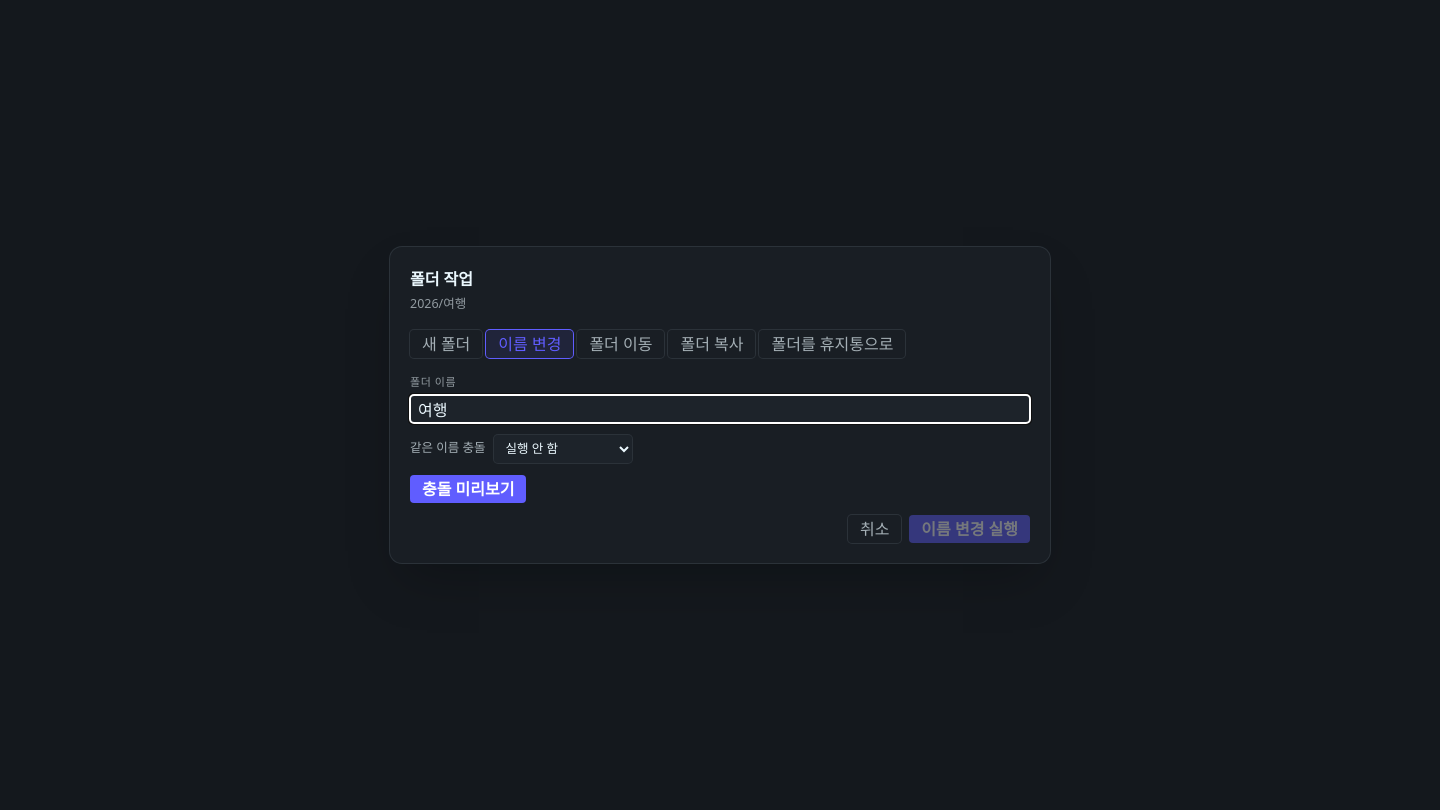
Test: FolderOperationDialog › 실행 결과가 0건이면 성공처럼 닫지 않는다
Replace the text in the field labelled "폴더 이름" with "여행2" at point(720, 409), box 410,395 -> 1030,423
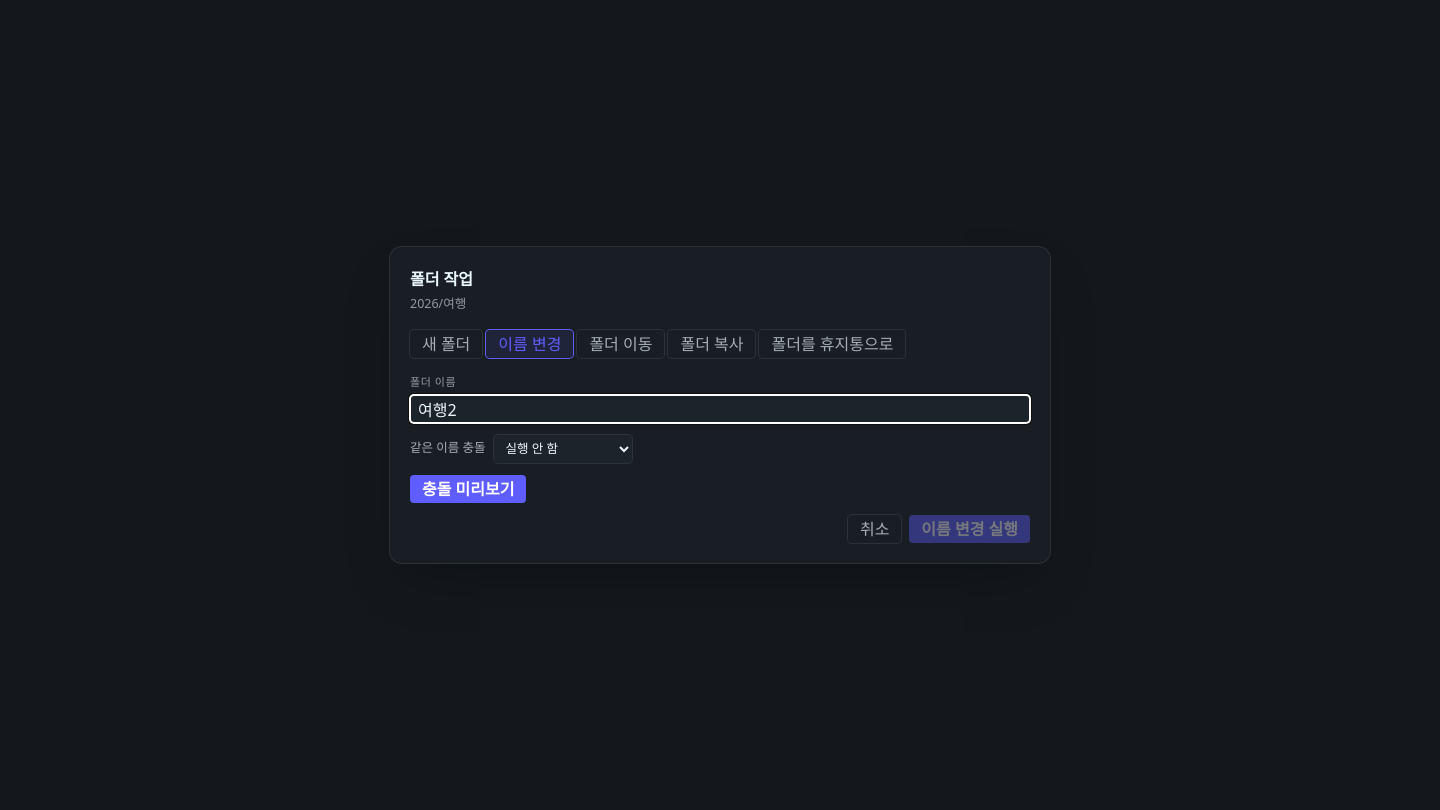
Click the button "충돌 미리보기" at point(468, 489), box 410,475 -> 526,503
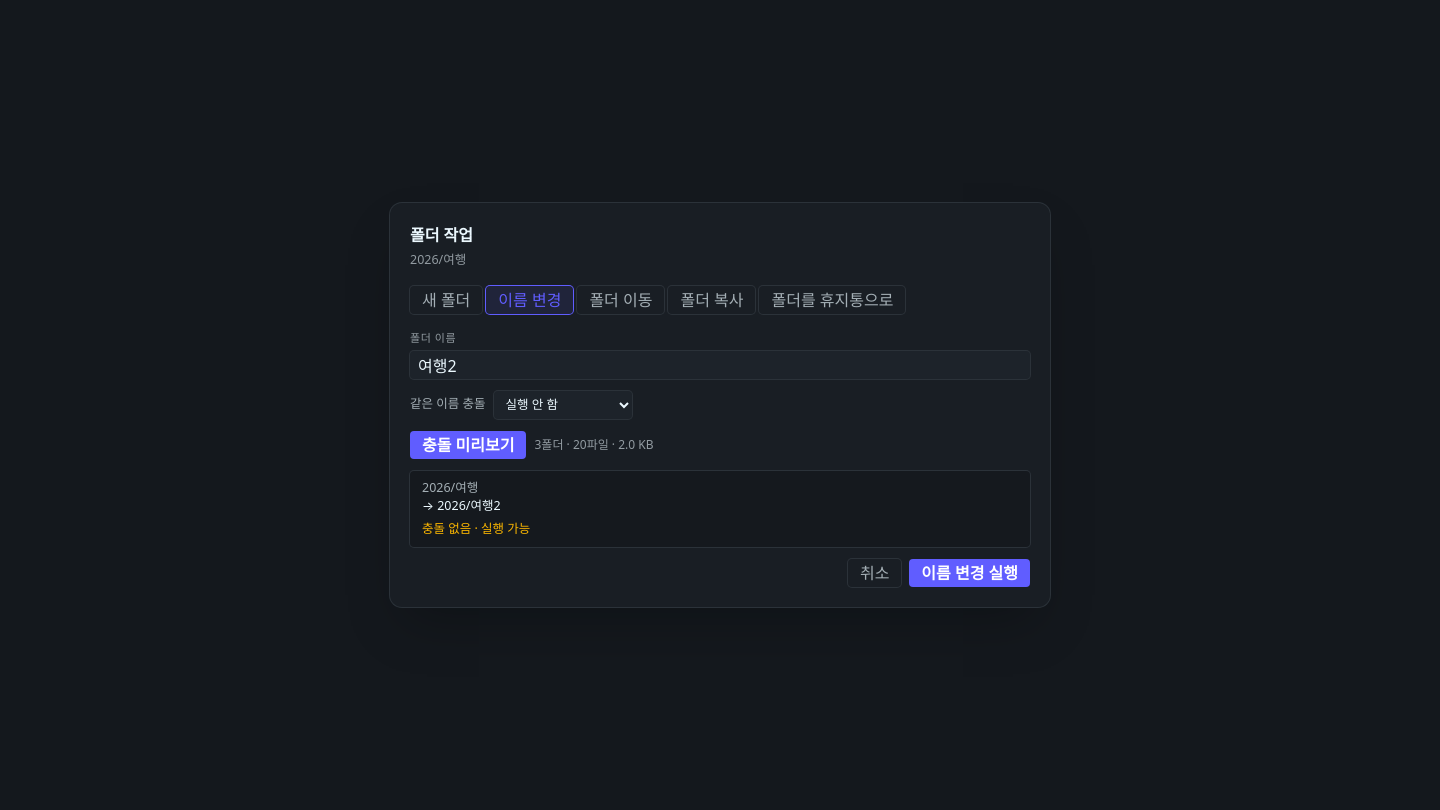
Click the button "이름 변경 실행" at point(970, 573), box 909,559 -> 1030,587
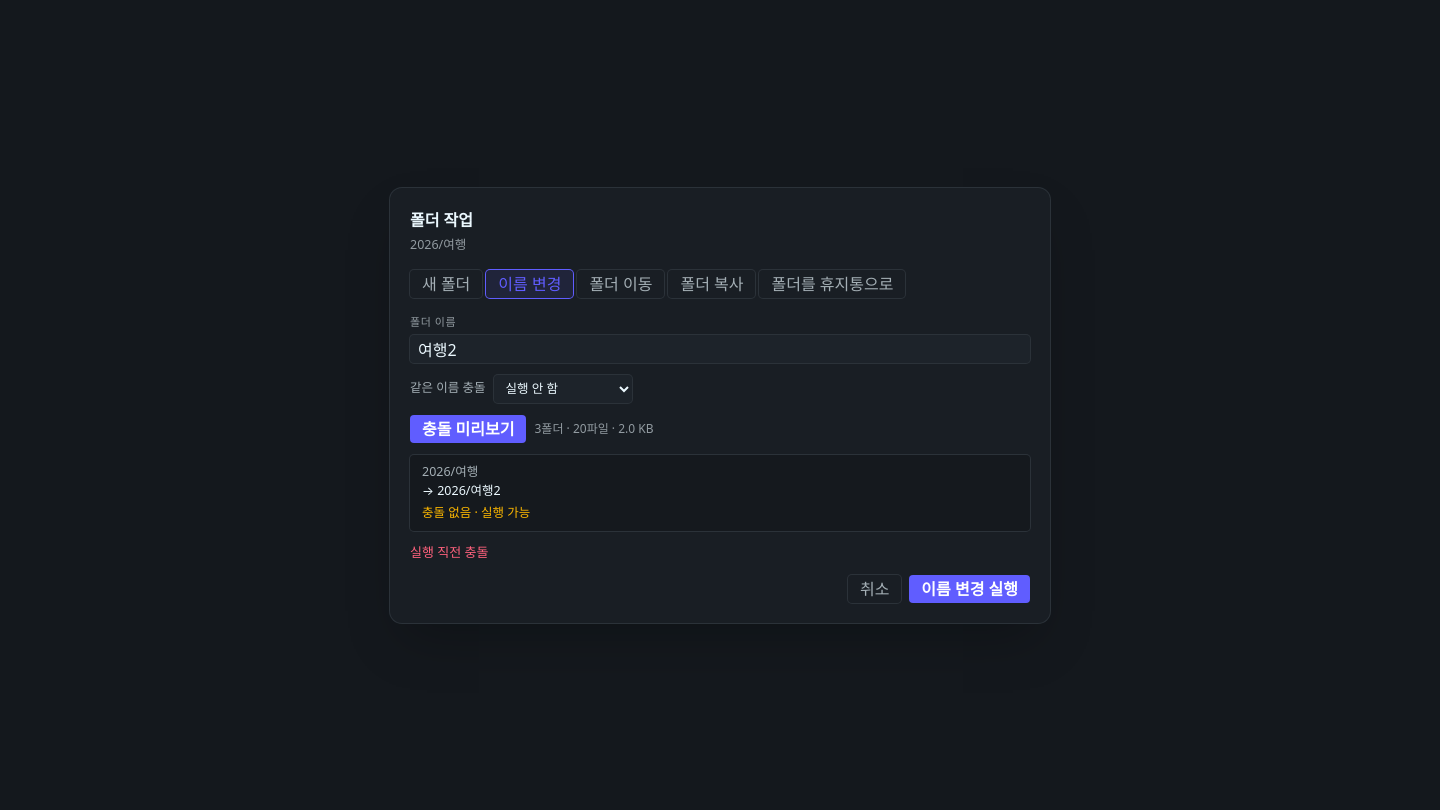
Now the message reads "실행 직전 충돌", box 410,543 -> 488,561
